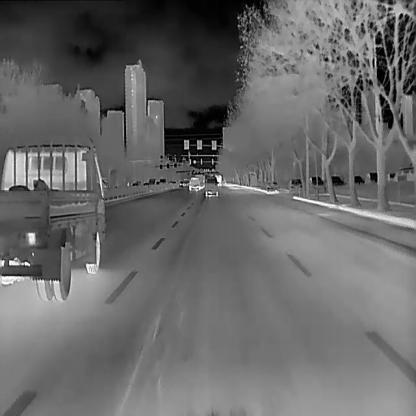car: (204, 176, 218, 198), (188, 177, 200, 192), (308, 176, 324, 186), (330, 176, 345, 186), (287, 178, 301, 188), (266, 180, 277, 190), (352, 176, 365, 184), (368, 172, 377, 182)
truck: (0, 136, 117, 300)
